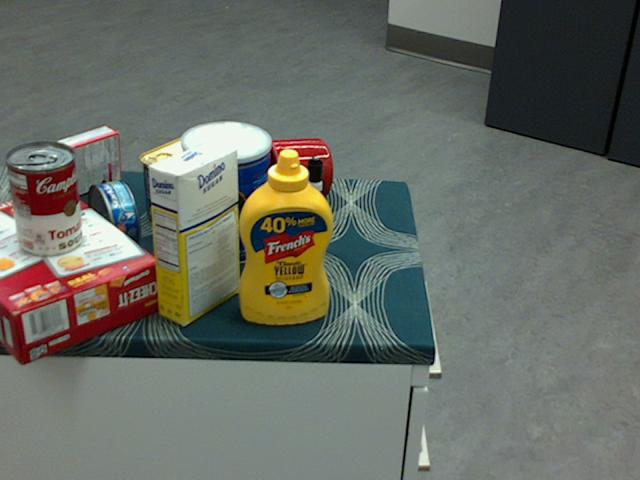cracker_box: (0, 184, 162, 364)
gelatin_box: (51, 126, 120, 200)
large_marker: (307, 156, 322, 250)
master_chef_can: (178, 120, 268, 265)
mug: (252, 135, 331, 206)
mustard_bottle: (239, 147, 333, 324)
potted_meat_can: (137, 133, 215, 226)
sugar_box: (147, 140, 240, 324)
tomato_soup_can: (6, 142, 82, 257)
tuna_fish_can: (85, 180, 138, 256)
